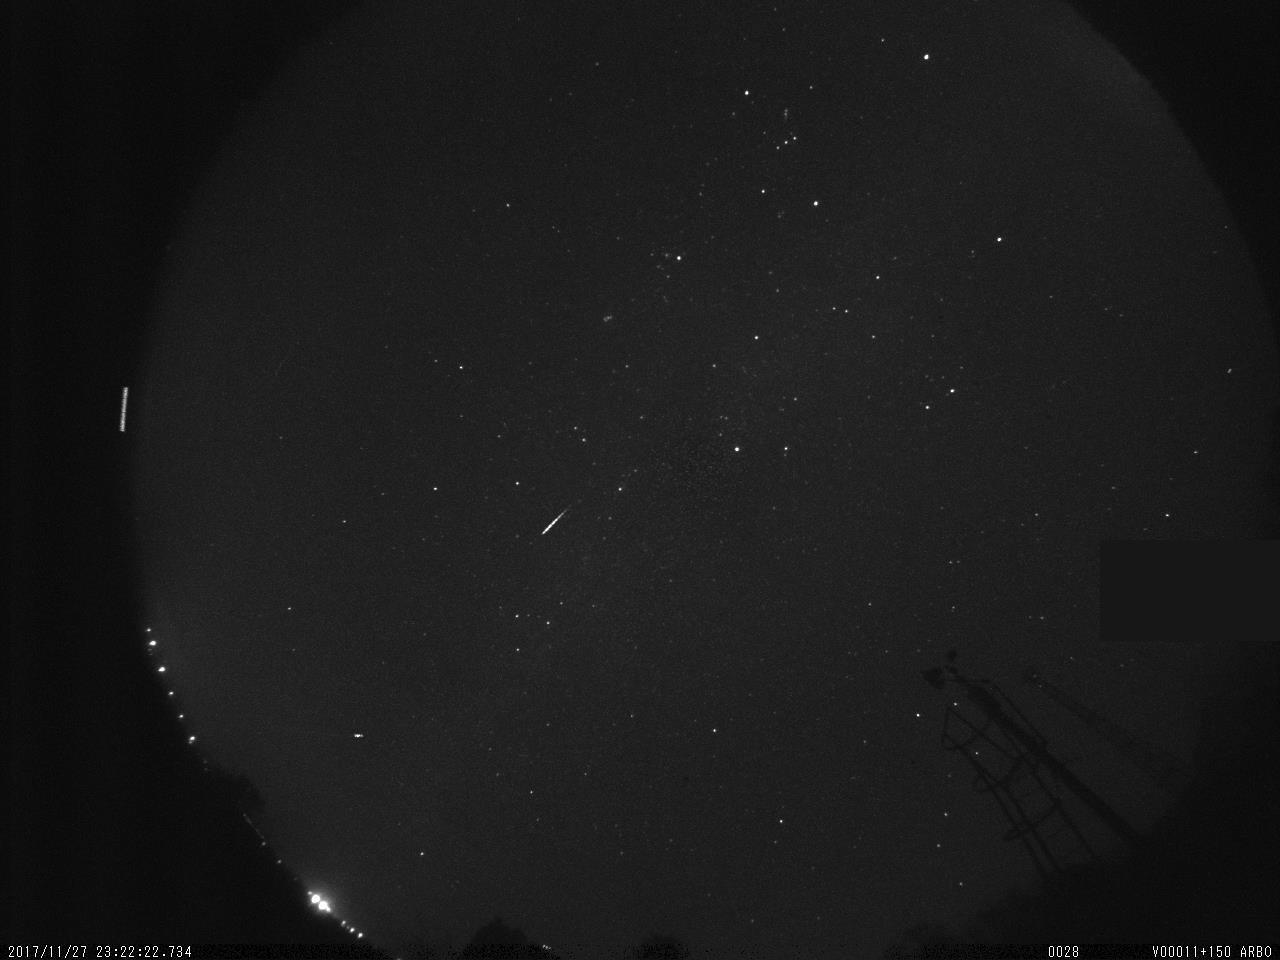meteor: (532, 505, 567, 544)
